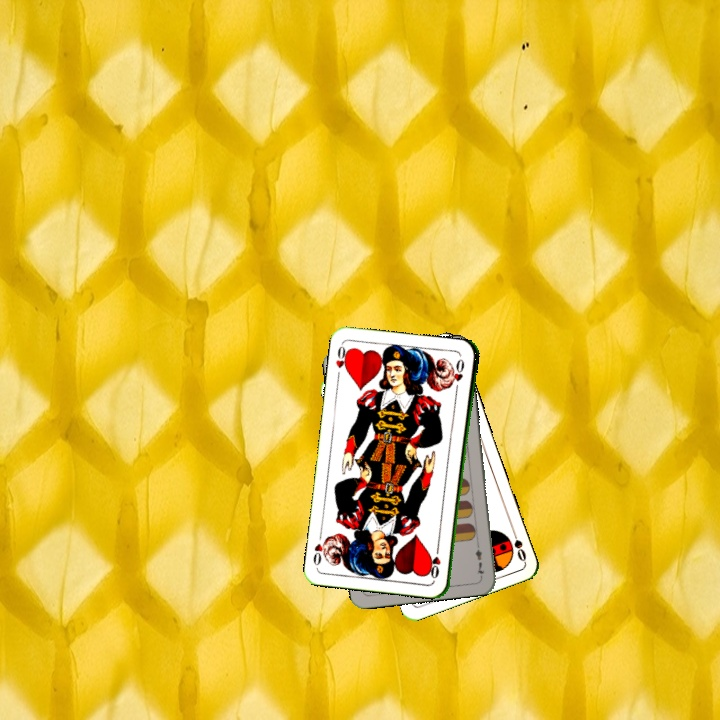E7: (471, 538, 487, 579)
HO: (332, 341, 352, 374), (428, 541, 443, 581)
SO: (508, 524, 529, 564)
